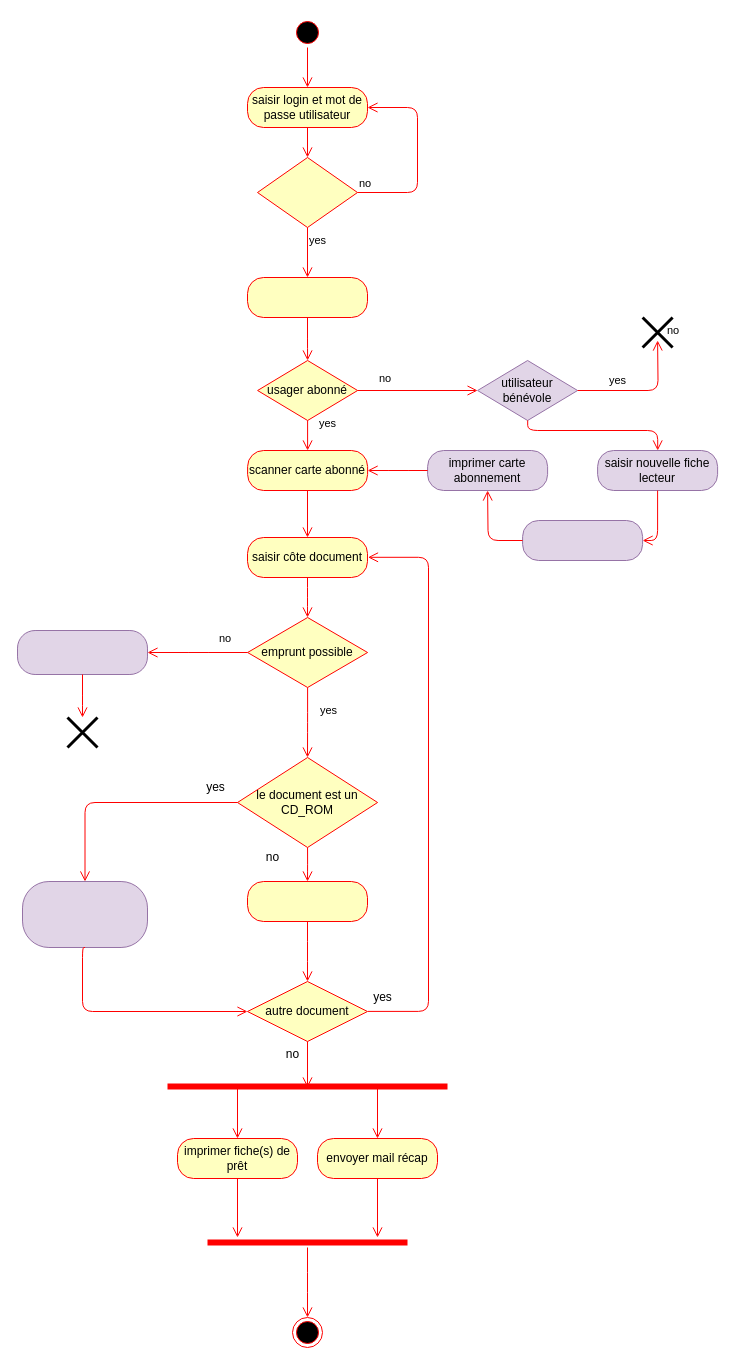
The diagram is 736 pixels wide and 1365 high, and some of its shapes have lost their labels. The shapes that lost their labels are listed below. From the top down, each one's centre as x and y in pixels, then its label:
At (307,192): "identification valide".
At (307,297): "confirmer la connexion".
At (582,540): "générer numéro d'abonné".
At (82,652): "afficher message nombre max d'emprunts atteint".
At (85,914): "afficher confirmation que la fiche de prêt émise au guichet a été modifiée".
At (307,901): "générer fiche de prêt".
